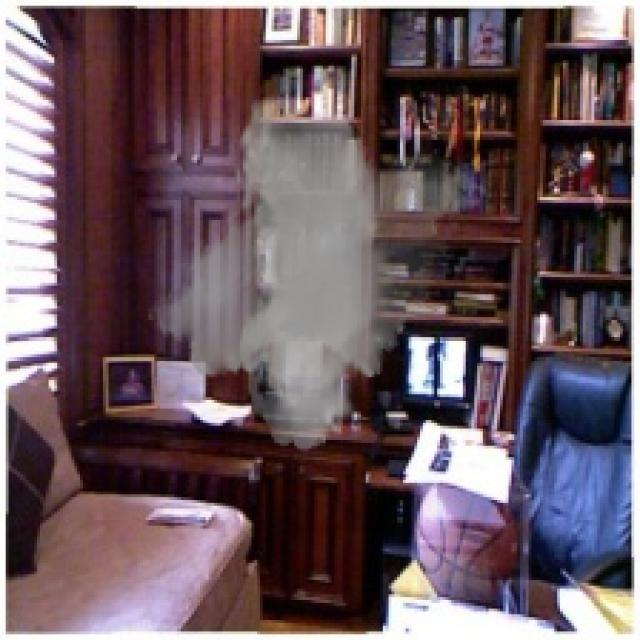Smoke: (146, 94, 488, 452)
